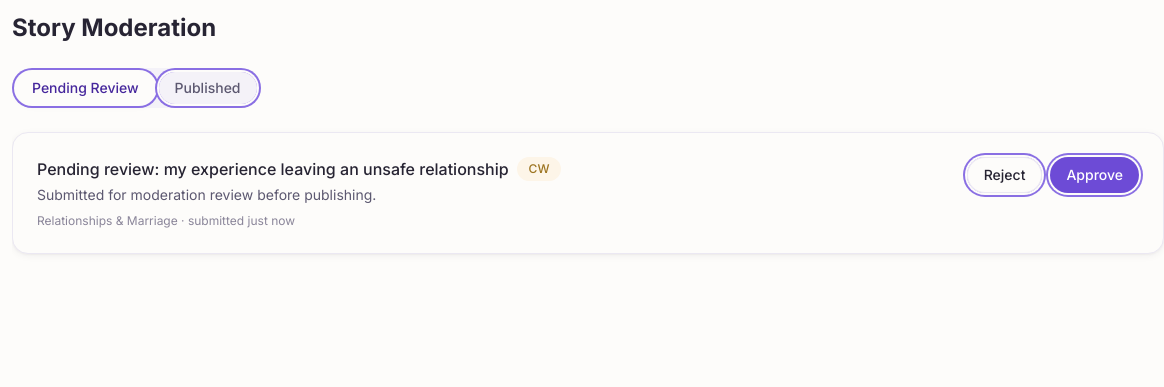
Test: StoryModerationPage › approving a pending story moves it out of the pending queue
The image size is (1164, 387).
Click the button "Approve" at x=1095, y=175, box [1050,157,1139,193]
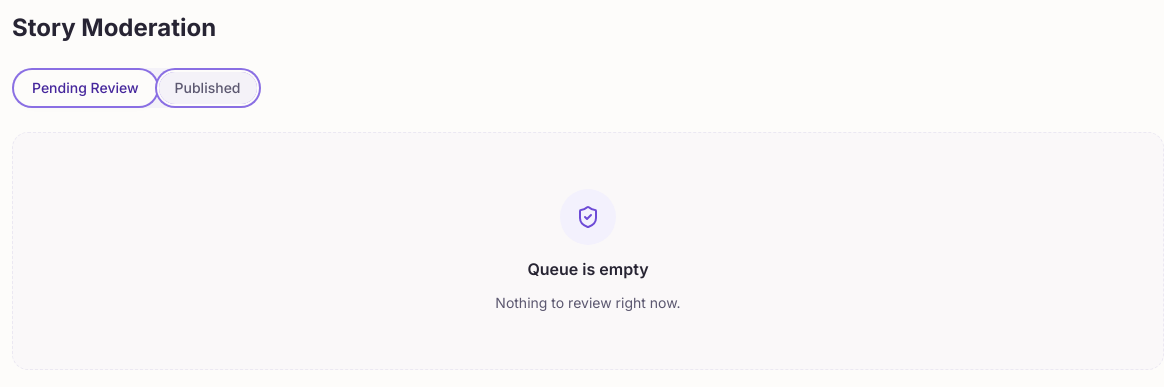
Expected: no buttons "Approve" are shown
